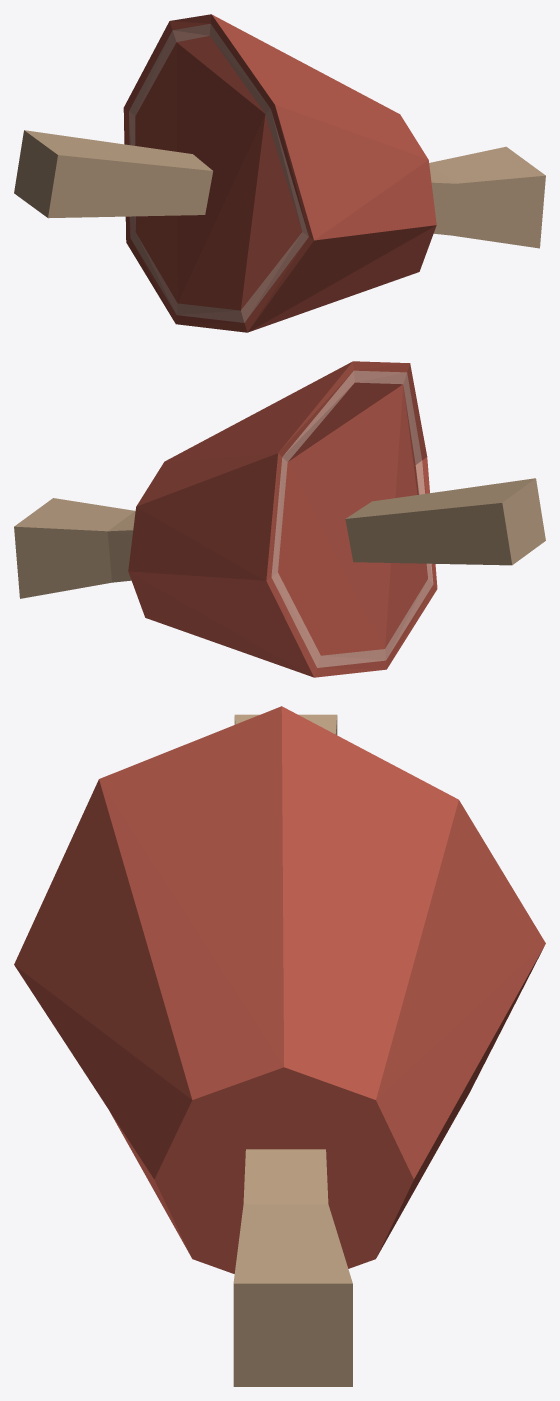
Rendered from hamHalf.fbx.
3 renders of one model, top to bottom at view 1: azimuth 30°, elevation 25°; view 2: azimuth 150°, elevation 25°; view 3: azimuth 270°, elevation 25°, orthographic. The views are drawn at different scales.
Parts seen in each view (by area): view 1: hamHalf; view 2: hamHalf; view 3: hamHalf.
Part boxes in pixels (x1,y1,x2,y2): hamHalf: (14,14,545,332); hamHalf: (14,361,545,677); hamHalf: (14,706,545,1386).
Bounding box in the file's own units: 27.57 × 16.01 × 16.92.
1 material, 1 textured.
